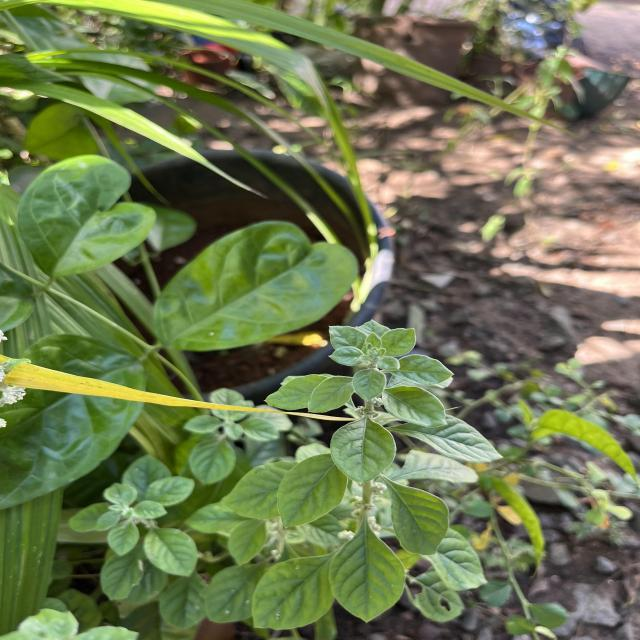Aerva lanata: (328, 516, 408, 624), (388, 412, 506, 464), (275, 450, 349, 530), (384, 476, 452, 556), (220, 459, 301, 522), (329, 414, 397, 486), (380, 384, 450, 430), (381, 352, 457, 387), (261, 373, 331, 411), (306, 375, 354, 414), (351, 366, 388, 402), (380, 326, 418, 359), (326, 324, 369, 352), (326, 345, 364, 368)
